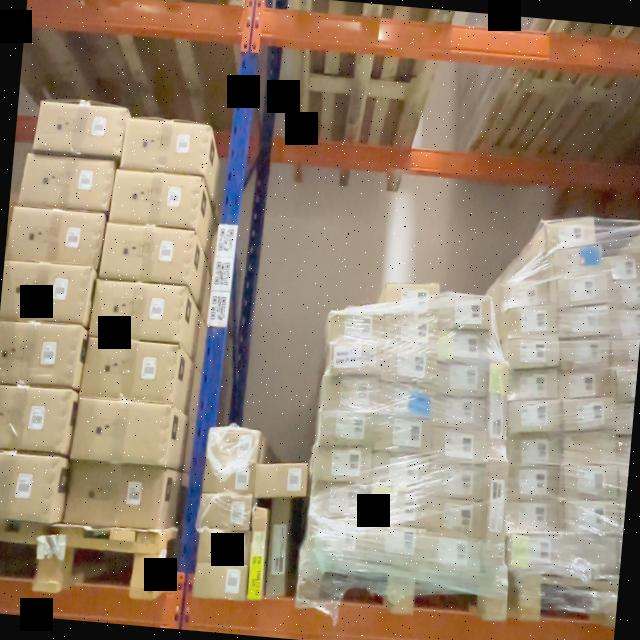box: (69, 399, 174, 467), (79, 336, 179, 403), (63, 463, 166, 528), (4, 206, 104, 269), (89, 278, 186, 342), (99, 223, 197, 285), (17, 154, 115, 214), (33, 100, 129, 159), (109, 170, 203, 230), (119, 116, 210, 174), (481, 461, 508, 573), (266, 500, 291, 597), (368, 490, 430, 529), (428, 497, 487, 537), (508, 534, 568, 573), (562, 536, 620, 576), (560, 497, 619, 536), (423, 532, 482, 571), (366, 522, 426, 560), (377, 381, 435, 420), (313, 446, 372, 484), (370, 453, 431, 489), (308, 484, 369, 520), (318, 412, 376, 449), (304, 517, 365, 552), (379, 349, 438, 385), (429, 460, 486, 497), (503, 500, 562, 535), (431, 429, 490, 464), (487, 362, 508, 460), (193, 564, 248, 601), (561, 394, 617, 430), (373, 418, 434, 451), (319, 377, 378, 411), (551, 241, 603, 279), (504, 302, 557, 339), (561, 429, 618, 463), (561, 465, 618, 499), (506, 400, 563, 434), (195, 528, 250, 563), (382, 281, 442, 313), (435, 362, 491, 396), (197, 494, 251, 529), (506, 468, 561, 502), (247, 508, 267, 601), (556, 270, 607, 306), (506, 433, 561, 466), (328, 342, 383, 375), (558, 337, 611, 371), (382, 315, 440, 346), (434, 397, 489, 429), (506, 335, 559, 368), (207, 430, 260, 463), (325, 313, 383, 343), (253, 465, 308, 496), (507, 369, 558, 402), (437, 331, 493, 361), (556, 368, 611, 398), (556, 305, 609, 336), (202, 461, 255, 492), (545, 217, 595, 249), (438, 297, 493, 326), (499, 280, 550, 309), (604, 253, 640, 284)
